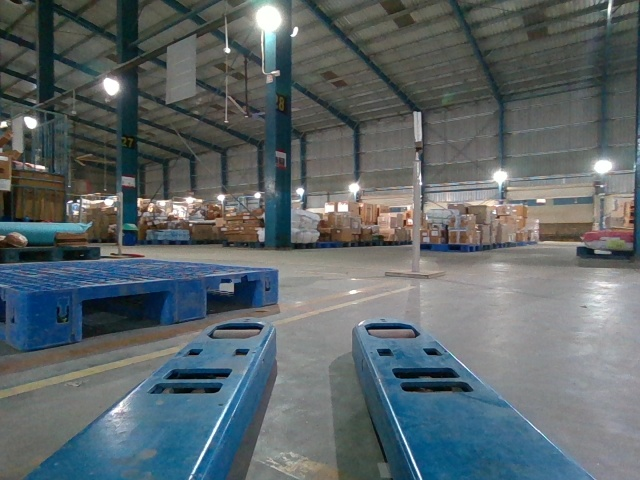block: (25, 286, 81, 353), (164, 276, 207, 324), (255, 270, 278, 308)
front: (26, 268, 279, 351)
hole pallet: (80, 288, 171, 340), (204, 278, 264, 317)
